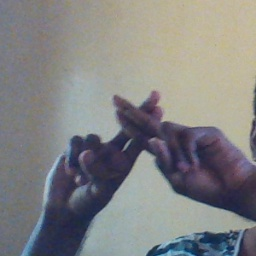F: (67, 81, 213, 185)
